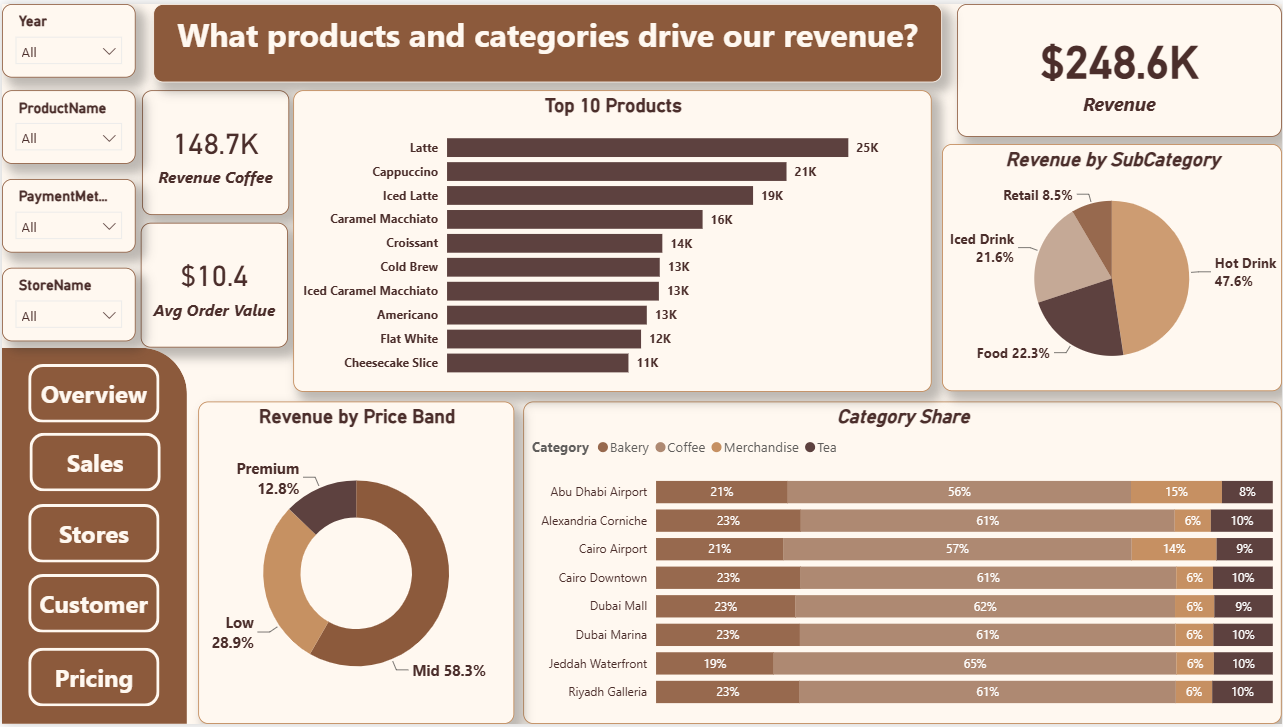

The dashboard page shown, as its layout file describes it:
{"tool":"powerbi","page":{"name":"Sales and Products","canvas":[1280,720],"ordinal":1},"visuals":[{"type":"card","fields":{"Values":["_Measures.Revenue"]},"box":[955,0,325,132.5],"z":0},{"type":"card","fields":{"Values":["_Measures.Revenue Coffee"]},"box":[140,86.2,147.5,125],"z":1000},{"type":"card","fields":{"Values":["_Measures.Avg Order Value"]},"box":[138.8,218.8,147.5,125],"z":2000},{"type":"slicer","fields":{"Values":["Calendar.Year"]},"box":[0,0,133.8,73.8],"z":3000},{"type":"textbox","box":[151.2,0,788.8,78.8],"z":4000},{"type":"shape","box":[0,343.8,185,376.2],"z":5000},{"type":"hundredPercentStackedBarChart","title":"Category Share","fields":{"Y":["_Measures.Share of Visible Total %"],"Series":["Products.Category"],"Category":["Stores.StoreName"]},"box":[521.2,397.5,758.8,322.5],"z":6000},{"type":"clusteredBarChart","title":"Top 10 Products","fields":{"Y":["_Measures.Revenue"],"Category":["Products.ProductName"]},"box":[291.2,86.2,638.8,301.2],"z":7000},{"type":"slicer","fields":{"Values":["Products.ProductName"]},"box":[0,86.2,133.8,73.8],"z":8000},{"type":"slicer","fields":{"Values":["Sales.PaymentMethod"]},"box":[0,175,133.8,73.8],"z":9000},{"type":"slicer","fields":{"Values":["Stores.StoreName"]},"box":[0,263.8,133.8,73.8],"z":10000},{"type":"actionButton","title":"Revenue","box":[26.2,360,131.2,58.8],"z":11000},{"type":"pieChart","fields":{"Y":["_Measures.Revenue"],"Category":["Products.SubCategory"]},"box":[940,140,340,247.5],"z":13000},{"type":"donutChart","fields":{"Y":["_Measures.Revenue"],"Category":["Products.Price Band"]},"box":[196.2,397.5,316.2,322.5],"z":14000},{"type":"actionButton","title":"Revenue","box":[27.5,428.8,131.2,58.8],"z":15000},{"type":"actionButton","title":"Revenue","box":[26.2,500,131.2,58.8],"z":16000},{"type":"actionButton","title":"Revenue","box":[26.2,570,131.2,58.8],"z":17000},{"type":"actionButton","title":"Revenue","box":[26.2,643.8,131.2,58.8],"z":18000}]}

Visuals, with their boxes in screenshot pixels (x1, y1, x2, y2), scaled from the page's 1280x720 canvas onto the 1283x727 screenshot:
card - _Measures.Revenue: crop(957, 0, 1282, 134)
card - _Measures.Revenue Coffee: crop(140, 87, 288, 213)
card - _Measures.Avg Order Value: crop(139, 221, 287, 347)
slicer - Calendar.Year: crop(0, 0, 134, 75)
textbox: crop(152, 0, 942, 80)
shape: crop(0, 347, 185, 726)
"Category Share" hundredPercentStackedBarChart: crop(522, 401, 1282, 726)
"Top 10 Products" clusteredBarChart: crop(292, 87, 932, 391)
slicer - Products.ProductName: crop(0, 87, 134, 162)
slicer - Sales.PaymentMethod: crop(0, 177, 134, 251)
slicer - Stores.StoreName: crop(0, 266, 134, 341)
"Revenue" actionButton: crop(26, 364, 158, 423)
pieChart - _Measures.Revenue x Products.SubCategory: crop(942, 141, 1282, 391)
donutChart - _Measures.Revenue x Products.Price Band: crop(197, 401, 514, 726)
"Revenue" actionButton: crop(28, 433, 159, 492)
"Revenue" actionButton: crop(26, 505, 158, 564)
"Revenue" actionButton: crop(26, 576, 158, 635)
"Revenue" actionButton: crop(26, 650, 158, 709)
